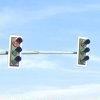traffic lights: (10, 35, 24, 63), (78, 40, 89, 66)
